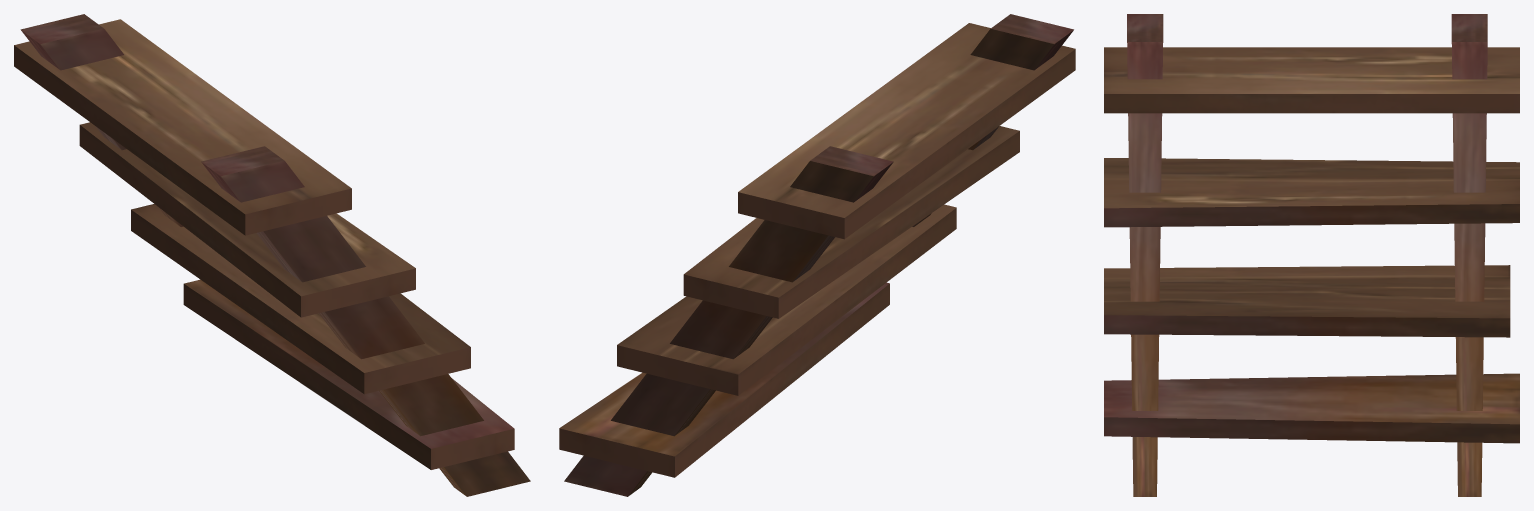
Rendered from FB6_muban03.FBX.
3 renders of one model, left to right at view 1: azimuth 30°, elevation 25°; view 2: azimuth 150°, elevation 25°; view 3: azimuth 270°, elevation 25°, orthographic. The views are drawn at different scales.
Parts seen in each view (by area): view 1: FB6_muban03; view 2: FB6_muban03; view 3: FB6_muban03.
Boxes of the visible parts, x1,y1,x2,y2 form: FB6_muban03: (14, 14, 530, 496); FB6_muban03: (559, 14, 1075, 496); FB6_muban03: (1104, 14, 1519, 496).
Bounding box in the file's own units: 187 × 219 × 239.
Materials: 1 (1 with a texture image).
